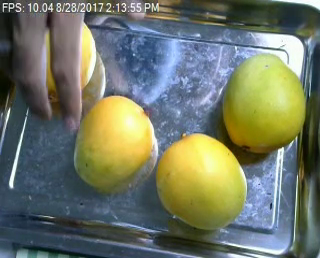Mango: (156, 133, 246, 230), (224, 54, 306, 152), (72, 96, 154, 186)
